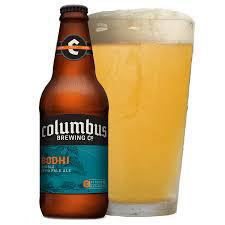beer: (38, 6, 109, 219)
